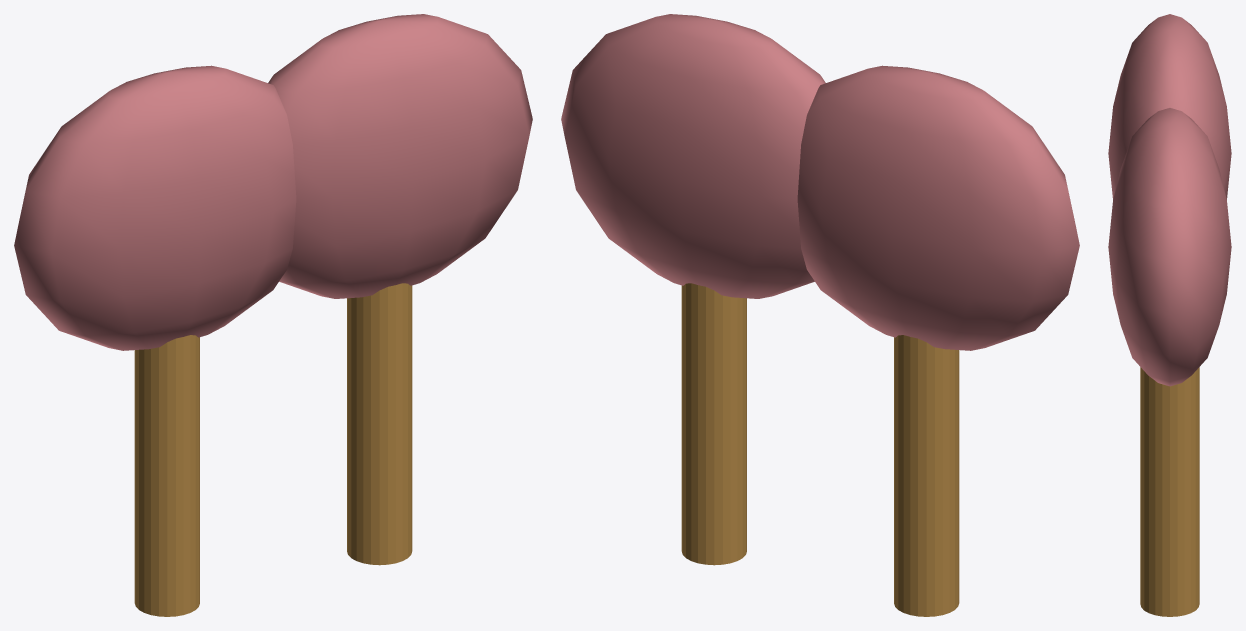
The model's file is cake_topper.glb.
The picture shows the model from 3 angles, left to right: view 1: azimuth 30°, elevation 25°; view 2: azimuth 150°, elevation 25°; view 3: azimuth 270°, elevation 25°; orthographic projection. The views are drawn at different scales.
Visible parts, largest first — view 1: cake_topper; view 2: cake_topper; view 3: cake_topper.
Part boxes in pixels (x1,y1,x2,y2): cake_topper: (14, 14, 532, 616); cake_topper: (561, 14, 1079, 616); cake_topper: (1108, 14, 1231, 616).
Bounding box in the file's own units: 0.22 × 0.215 × 0.05.
